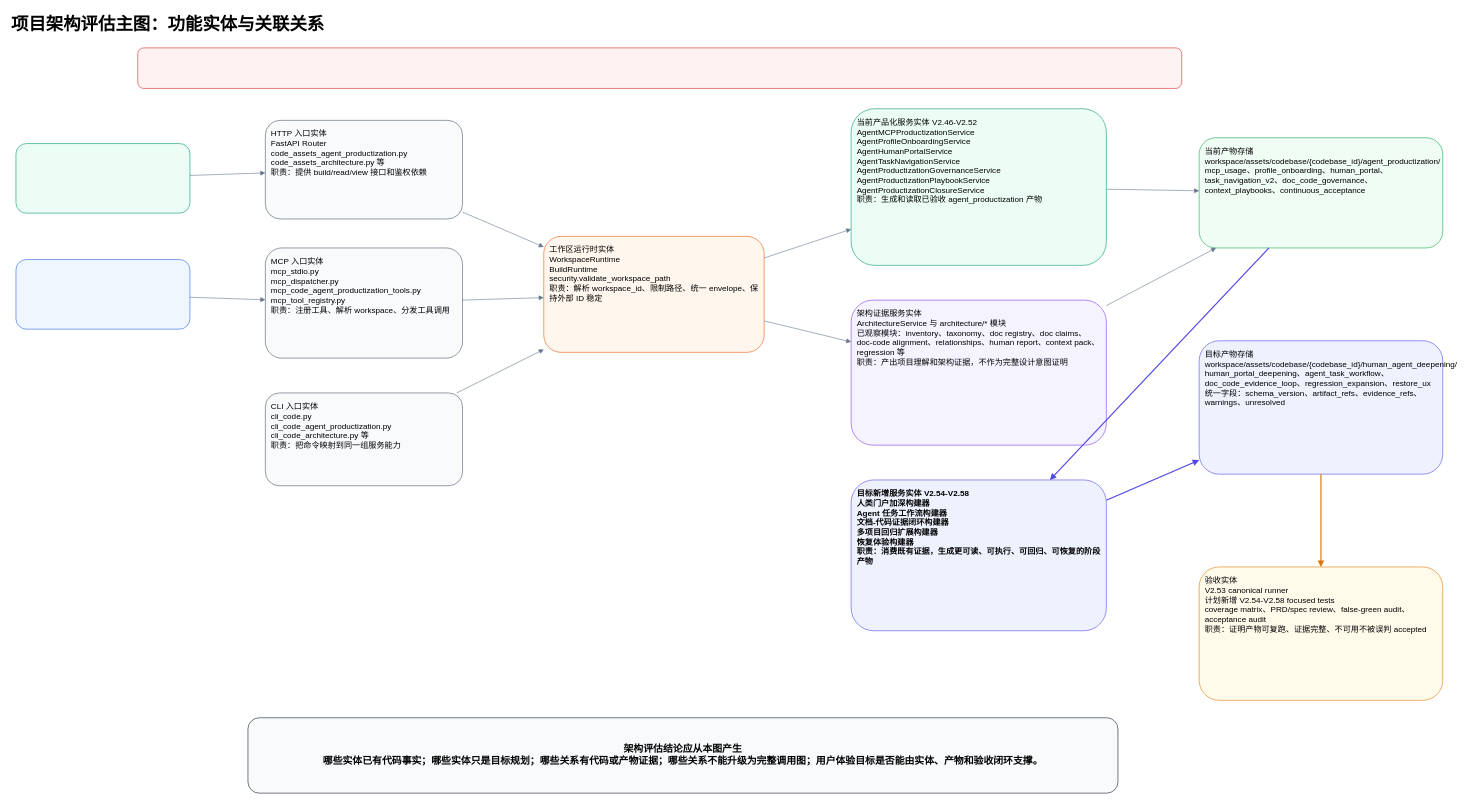
The diagram is 1467 pixels wide and 803 high, and some of its shapes have lost their labels. The shapes that lost their labels are listed below. From the top down, each one's centre as x and y in pixels, then its label:
At (x=659, y=67): "说明：本图用于架构评估。箭头只表示入口调用、服务调用、产物读写、产物消费和验收回填关系，不表示完整调用图、运行时拓扑或数据/控制流。".
At (x=102, y=178): "维护者 / 架构评审者 查看门户、治理结果、回归报告和恢复指南".
At (x=102, y=294): "编码 Agent 读取任务工作流、证据引用、建议测试和停止条件".
